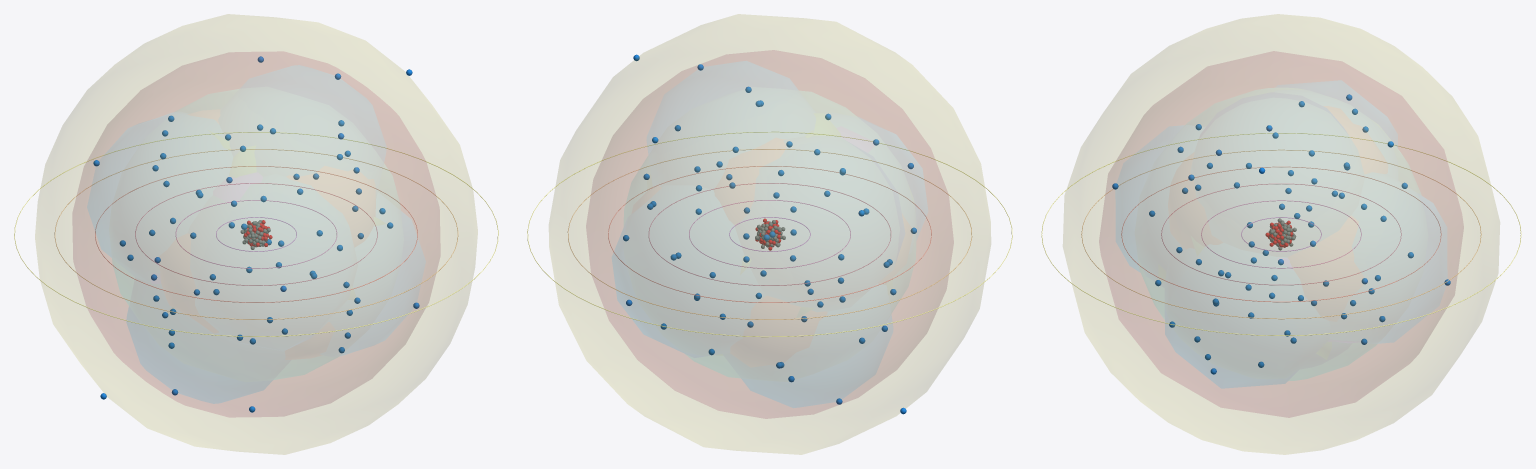
3 views of the same model, side by side, from view 1: azimuth 30°, elevation 25°; view 2: azimuth 150°, elevation 25°; view 3: azimuth 270°, elevation 25° (orthographic).
Parts seen in each view (by area): view 1: Orbital_6s_0, Orbital_5s_0, Orbital_5p_2, Orbital_5p_1, Orbital_4s_0, Nivel_n6, Nivel_n5, Nivel_n4, Nivel_n3; view 2: Orbital_6s_0, Orbital_5s_0, Orbital_5p_2, Orbital_5p_0, Orbital_4s_0, Nivel_n6, Nivel_n5, Nivel_n4, Nivel_n3; view 3: Orbital_6s_0, Orbital_5s_0, Orbital_5p_0, Orbital_5p_1, Orbital_4s_0, Nivel_n6, Nivel_n5, Nivel_n4, Nivel_n3, Orbital_5p_2.
Part boxes in pixels (bbox=[...]): Orbital_6s_0: bbox=[35, 14, 477, 454]; Orbital_5s_0: bbox=[73, 52, 439, 416]; Orbital_5p_2: bbox=[127, 65, 385, 403]; Orbital_5p_1: bbox=[87, 113, 425, 355]; Orbital_4s_0: bbox=[112, 89, 400, 379]; Nivel_n6: bbox=[14, 132, 498, 336]; Nivel_n5: bbox=[54, 149, 458, 319]; Nivel_n4: bbox=[95, 166, 417, 302]; Nivel_n3: bbox=[135, 183, 377, 285]; Orbital_6s_0: bbox=[549, 14, 990, 454]; Orbital_5s_0: bbox=[586, 50, 953, 418]; Orbital_5p_2: bbox=[647, 61, 892, 407]; Orbital_5p_0: bbox=[612, 118, 927, 357]; Orbital_4s_0: bbox=[624, 91, 915, 377]; Nivel_n6: bbox=[527, 131, 1012, 337]; Nivel_n5: bbox=[567, 149, 972, 319]; Nivel_n4: bbox=[608, 166, 931, 302]; Nivel_n3: bbox=[648, 183, 891, 285]; Orbital_6s_0: bbox=[1063, 14, 1499, 454]; Orbital_5s_0: bbox=[1099, 51, 1463, 417]; Orbital_5p_0: bbox=[1116, 126, 1446, 342]; Orbital_5p_1: bbox=[1165, 81, 1397, 387]; Orbital_4s_0: bbox=[1138, 88, 1420, 380]; Nivel_n6: bbox=[1041, 133, 1521, 335]; Nivel_n5: bbox=[1081, 149, 1481, 319]; Nivel_n4: bbox=[1121, 166, 1441, 302]; Nivel_n3: bbox=[1161, 183, 1401, 285]; Orbital_5p_2: bbox=[1199, 93, 1344, 138].
Size of the model in its own units: 1.8 by 1.62 by 1.8.
